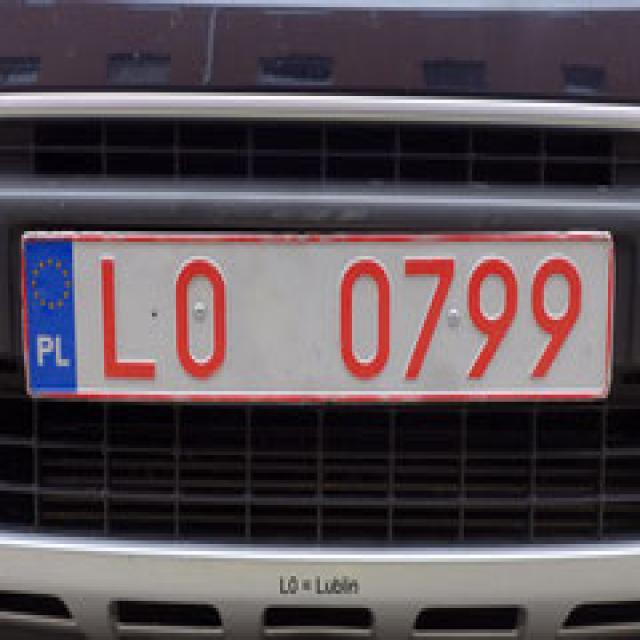pl_license_plate: (22, 231, 606, 391)
